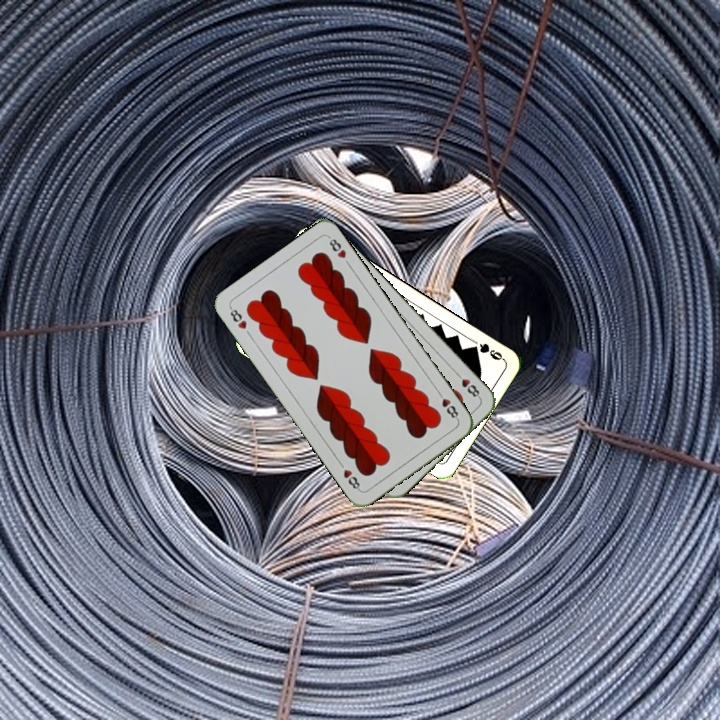G9: (467, 339, 507, 363)
H8: (451, 368, 483, 401), (433, 387, 461, 423), (225, 303, 249, 332)
